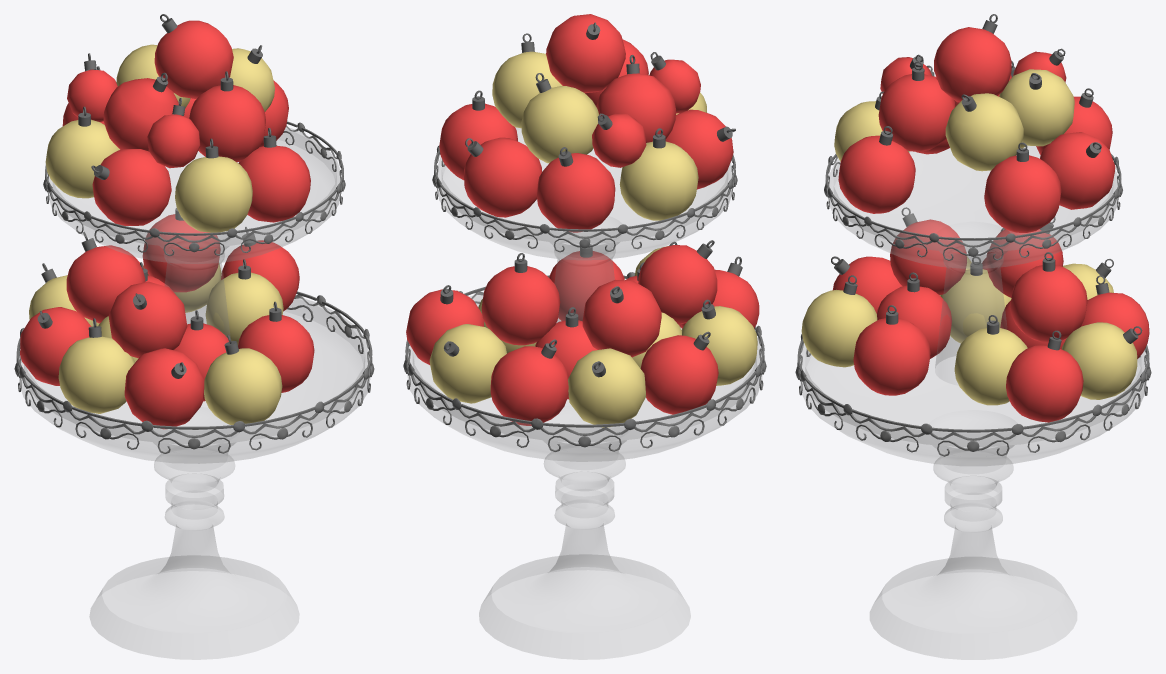
The model's file is EnfeiteVidro.glb.
3 renders of one model, left to right at view 1: azimuth 30°, elevation 25°; view 2: azimuth 150°, elevation 25°; view 3: azimuth 270°, elevation 25°, orthographic. The views are drawn at different scales.
Parts seen in each view (by area): view 1: Bolinhas, Vidro, Enfeite; view 2: Bolinhas, Vidro, Enfeite; view 3: Bolinhas, Vidro, Enfeite.
Part boxes in pixels (x1,y1,x2,y2): Bolinhas: (20, 14, 314, 429); Vidro: (19, 127, 369, 659); Enfeite: (14, 121, 374, 453); Bolinhas: (406, 14, 759, 427); Vidro: (407, 127, 761, 659); Enfeite: (403, 146, 766, 451); Bolinhas: (801, 14, 1149, 422); Vidro: (800, 146, 1146, 659); Enfeite: (795, 154, 1151, 456).
Size of the model in its own units: 0.3225 by 0.5918 by 0.3225.
